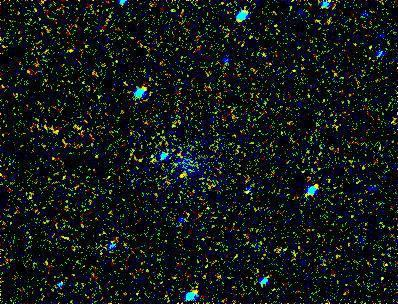star: (167, 161, 197, 191)
